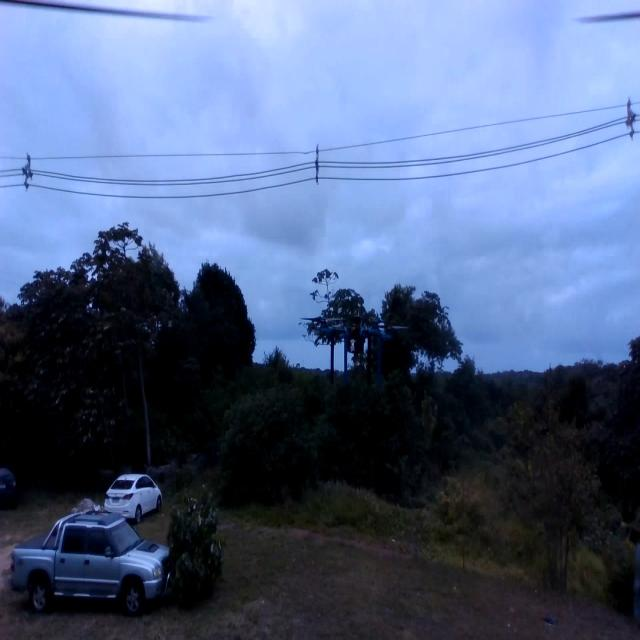-uav-: (296, 286, 413, 391)
